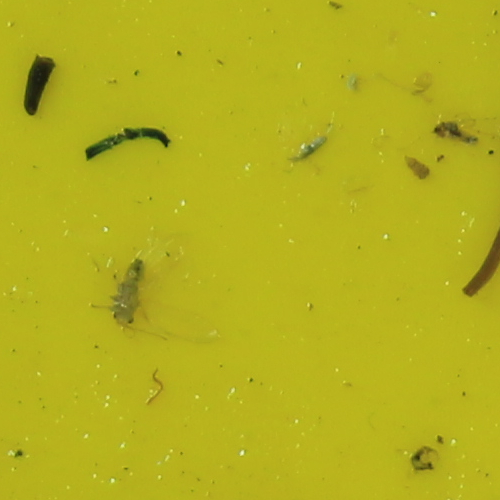psylla: (107, 253, 150, 330)
